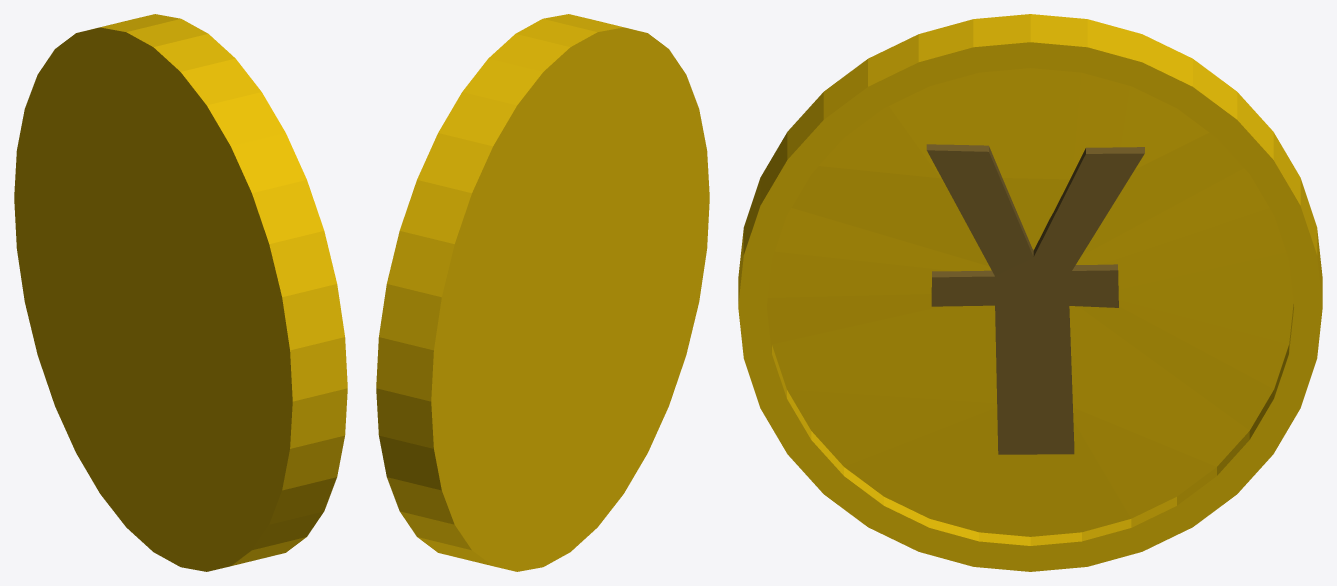
Rendered from Asset_Moneda.fbx.
3 views of the same model, side by side, from view 1: azimuth 30°, elevation 25°; view 2: azimuth 150°, elevation 25°; view 3: azimuth 270°, elevation 25° (orthographic). The views are drawn at different scales.
Visible parts, largest first — view 1: Circle; view 2: Circle; view 3: Circle, Circle.001.
Part boxes in pixels (box(x1,y1,x2,y2)): Circle: box(14, 14, 347, 571); Circle: box(376, 14, 709, 571); Circle: box(738, 14, 1322, 571); Circle.001: box(926, 144, 1144, 454).
Size of the model in its own units: 22.83 by 200 by 200.
